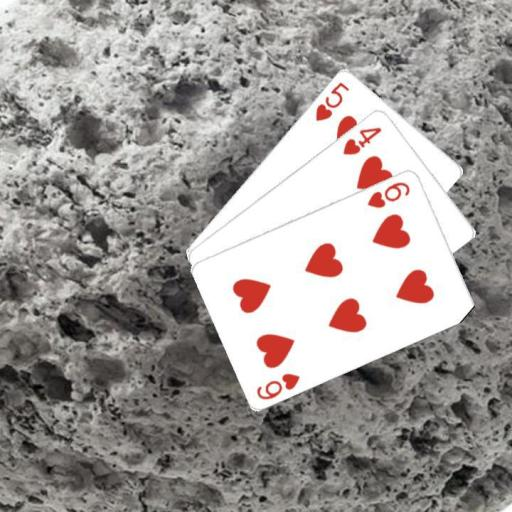4H: (340, 123, 383, 156)
5H: (312, 79, 351, 123)
6H: (253, 369, 302, 401), (364, 178, 412, 210)
